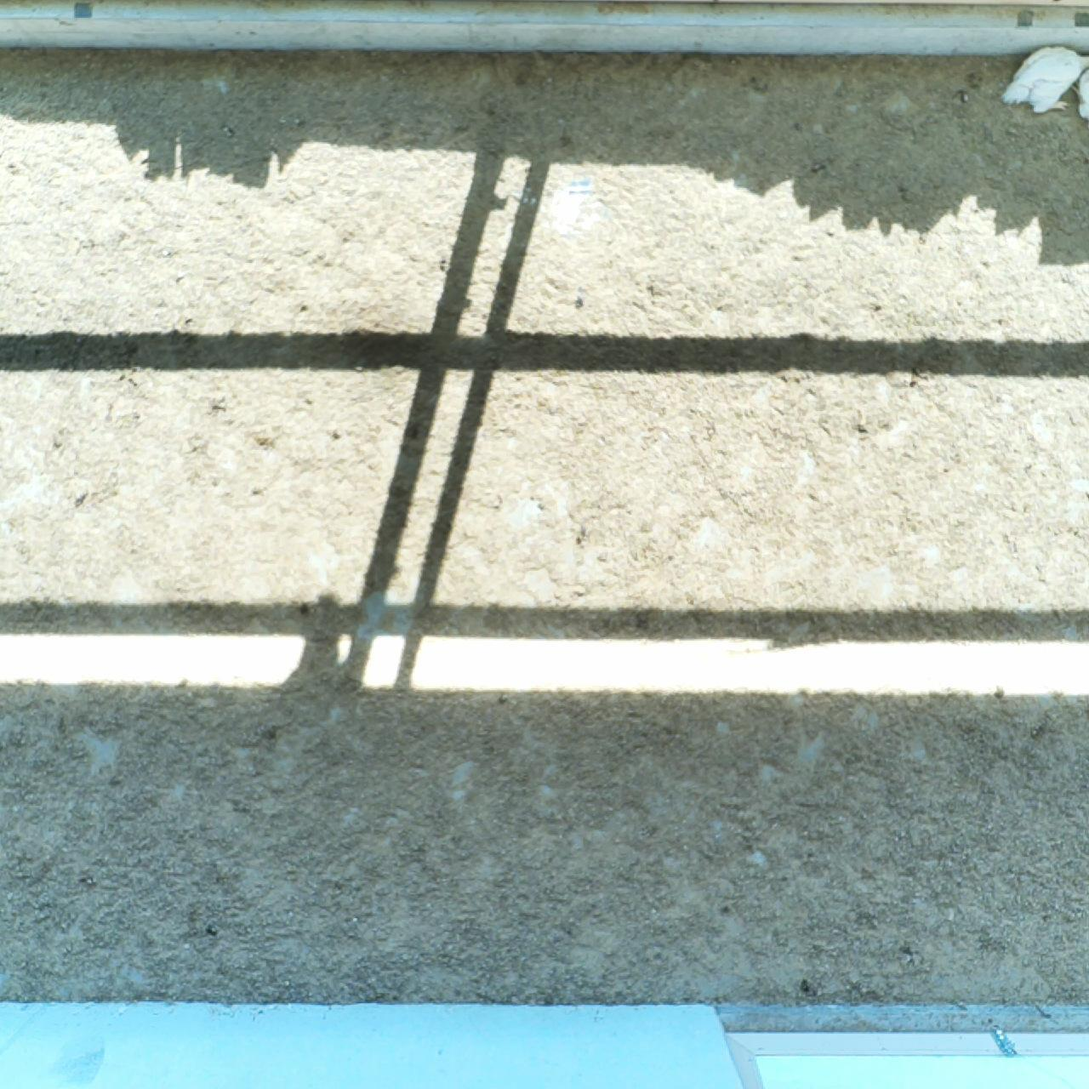chicken: (994, 47, 1089, 114), (1073, 71, 1089, 123)
